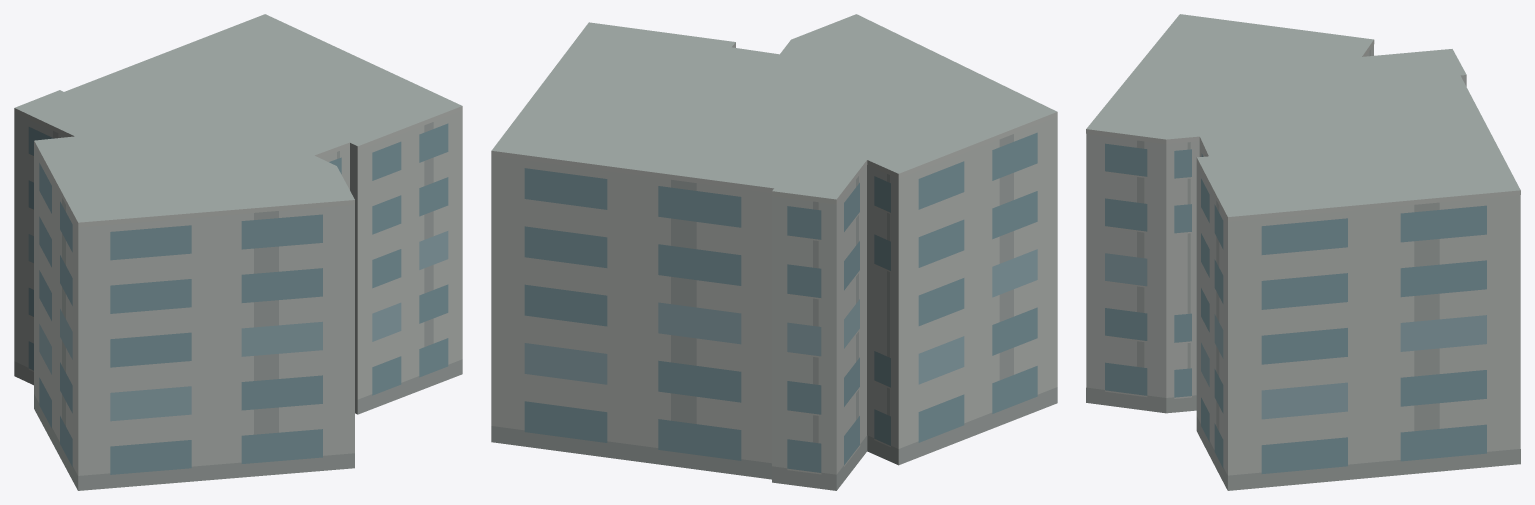
Rendered from survey-upis-32962569.glb.
3 renders of one model, left to right at view 1: azimuth 30°, elevation 25°; view 2: azimuth 150°, elevation 25°; view 3: azimuth 270°, elevation 25°, orthographic. The views are drawn at different scales.
Parts seen in each view (by area): view 1: survey-upis-32962569.tmp; view 2: survey-upis-32962569.tmp; view 3: survey-upis-32962569.tmp.
Boxes of the visible parts, x1,y1,x2,y2 form: survey-upis-32962569.tmp: (14, 14, 462, 490); survey-upis-32962569.tmp: (491, 14, 1057, 490); survey-upis-32962569.tmp: (1086, 14, 1520, 490).
Bounding box in the file's own units: 22.29 × 14 × 20.16.
